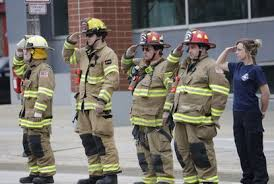emergent: (66, 17, 121, 184), (125, 30, 178, 184), (173, 30, 223, 182), (13, 36, 54, 180)
